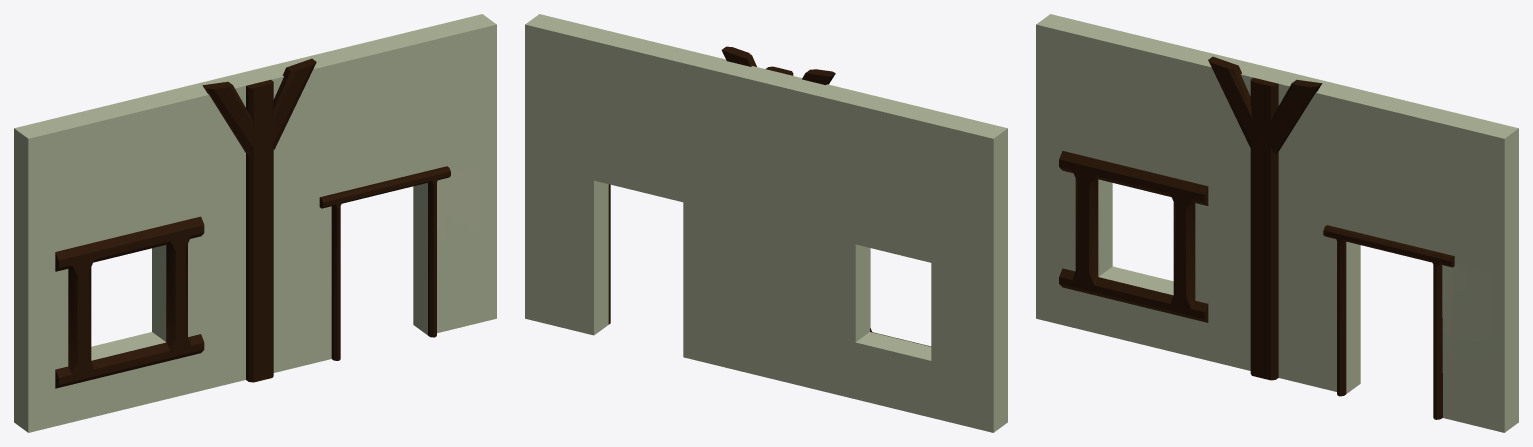
File: Wall_Door02_FBX.fbx
3 renders of one model, left to right at view 1: azimuth 30°, elevation 25°; view 2: azimuth 150°, elevation 25°; view 3: azimuth 330°, elevation 25°, orthographic.
Visible parts, largest first — view 1: Long wall one door one window006, Box150, Box173, Box152; view 2: Long wall one door one window006, Box173; view 3: Long wall one door one window006, Box150, Box173, Box152.
Part boxes in pixels (bbox=[...]): Long wall one door one window006: bbox=[14, 14, 496, 432]; Box150: bbox=[246, 79, 273, 382]; Box173: bbox=[271, 58, 316, 149]; Box152: bbox=[202, 81, 254, 155]; Long wall one door one window006: bbox=[525, 14, 1007, 432]; Box173: bbox=[721, 46, 756, 66]; Long wall one door one window006: bbox=[1036, 14, 1518, 432]; Box150: bbox=[1250, 77, 1278, 380]; Box173: bbox=[1270, 79, 1322, 153]; Box152: bbox=[1208, 56, 1253, 147].
Size of the model in its own units: 750 by 465 by 53.47.
